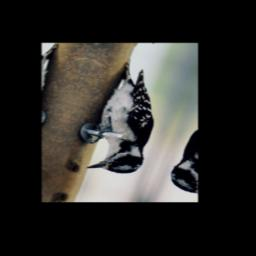Woodpecker: (76, 56, 181, 181)
